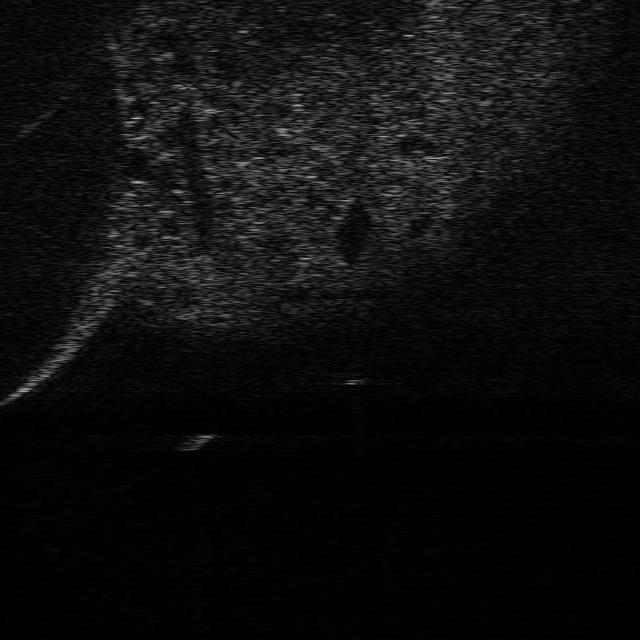cube: (332, 368, 372, 388)
cylinder: (175, 430, 217, 452)
